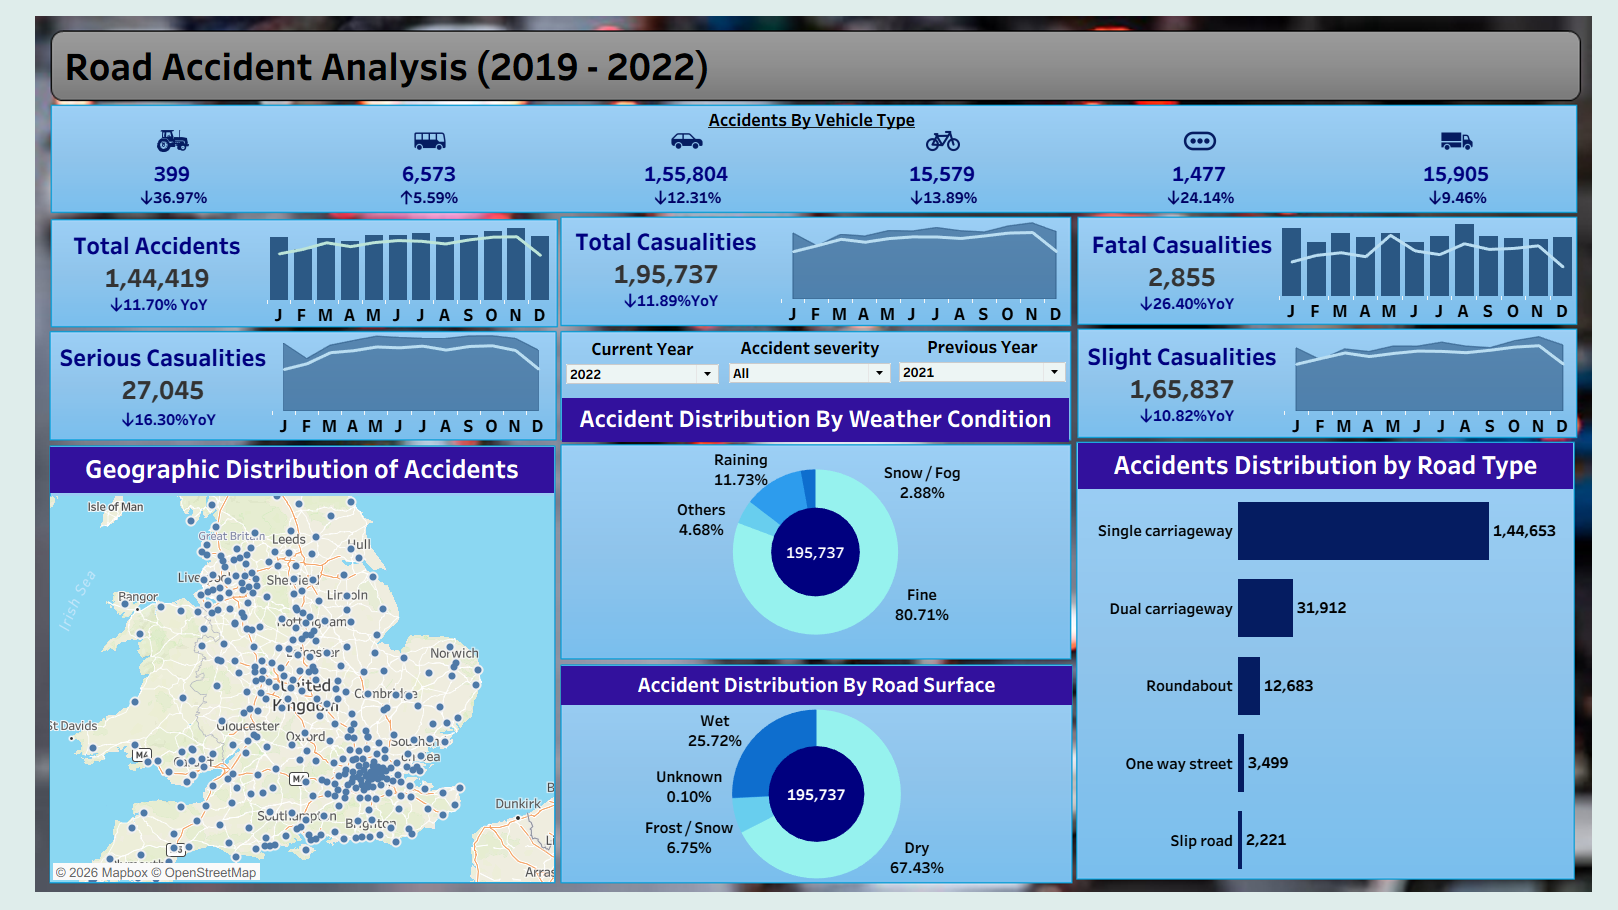

The page's visual inventory and layout, read from the dashboard file:
{"tool":"tableau","page":{"name":"Road Accident Analysis","canvas":[1600,900],"ordinal":1},"visuals":[{"type":"image","param":"C:/Users/TANVI YERAM/OneDrive/Documents/NYC Layout.png","box":[8,8,1584,884]},{"type":"text","box":[47,33,1504,56]},{"type":"text","box":[639,100,318,30]},{"type":"worksheet","title":"images","mark":"Shape","box":[31,119,1540,35]},{"type":"worksheet","title":"Vehicle type KPI","mark":"Automatic","box":[30,156,1540,48]},{"type":"worksheet","title":"Fatal Casualities","mark":"Automatic","box":[1070,211,196,113]},{"type":"worksheet","title":"Total Casualities","mark":"Automatic","box":[554,214,196,102]},{"type":"worksheet","title":"Total Casualities sparkline","mark":"Line","rows":["current year Causualities (copy)_0405448617402374","Calculation_0405448616124421"],"cols":["Accident Date"],"box":[767,215,287,107]},{"type":"worksheet","title":"Fatal sparkline","mark":"Line","rows":["CY Fatal Casualities (copy)_0405448620318730","Calculation_0405448619421705"],"cols":["Accident Date"],"box":[1265,216,296,102]},{"type":"worksheet","title":"Total Accidents","mark":"Automatic","box":[53,218,180,102]},{"type":"worksheet","title":"Accidents Sparkline","mark":"Line","rows":["Current Year Accidents (copy)_0405448610525187","Calculation_0405448608624642"],"cols":["Accident Date"],"box":[253,220,285,102]},{"type":"worksheet","title":"Slight Casualities","mark":"Automatic","box":[1069,323,197,113]},{"type":"worksheet","title":"Serious Sparkline","mark":"Line","rows":["PY Fatal Casualities (copy)_0405448626880526","CY Fatal Casualities (copy)_0405448626216972"],"cols":["Accident Date"],"box":[258,328,278,106]},{"type":"worksheet","title":"Slight Sparkline","mark":"Line","rows":["PY Serious Casualities  (copy)_0405448628150289","CY Serious Casualities  (copy)_0405448627900432"],"cols":["Accident Date"],"box":[1270,329,291,105]},{"type":"parameter","param":"[Parameters].[Current Year (copy)_0405448608325633]","box":[882,331,173,62]},{"type":"worksheet","title":"Serious Casualities","mark":"Automatic","box":[38,332,222,102]},{"type":"parameter","param":"[Parameters].[Parameter 2]","box":[712,332,168,62]},{"type":"parameter","param":"[Parameters].[Parameter 1]","box":[549,333,159,61]},{"type":"worksheet","title":"Weather Condition","mark":"Pie","rows":["Calculation_1157240269987841","Calculation_1157240270020611"],"box":[548,394,507,261]},{"type":"worksheet","title":"Road Type","mark":"Automatic","rows":["Road_Type"],"cols":["Calculation_0405448616124421"],"box":[1064,439,495,436]},{"type":"worksheet","title":"Map Chart","mark":"Automatic","rows":["Latitude"],"cols":["Longitude"],"box":[36,443,504,435]},{"type":"worksheet","title":"Road Surface","mark":"Pie","rows":["Calculation_1157240269987841","Calculation_1157240270020611"],"box":[547,662,511,214]}]}

Visuals, with their boxes in screenshot pixels (x1, y1, x2, y2), scaled from the page's 1600x900 canvas onto the 1618x910 screenshot:
image: rect(8, 8, 1610, 902)
text: rect(48, 33, 1568, 90)
text: rect(646, 101, 968, 131)
"images" worksheet (Shape marks): rect(31, 120, 1589, 156)
"Vehicle type KPI" worksheet: rect(30, 158, 1588, 206)
"Fatal Casualities" worksheet: rect(1082, 213, 1280, 328)
"Total Casualities" worksheet: rect(560, 216, 758, 320)
"Total Casualities sparkline" worksheet (Line marks): rect(776, 217, 1066, 326)
"Fatal sparkline" worksheet (Line marks): rect(1279, 218, 1579, 322)
"Total Accidents" worksheet: rect(54, 220, 236, 324)
"Accidents Sparkline" worksheet (Line marks): rect(256, 222, 544, 326)
"Slight Casualities" worksheet: rect(1081, 327, 1280, 441)
"Serious Sparkline" worksheet (Line marks): rect(261, 332, 542, 439)
"Slight Sparkline" worksheet (Line marks): rect(1284, 333, 1579, 439)
parameter: rect(892, 335, 1067, 397)
"Serious Casualities" worksheet: rect(38, 336, 263, 439)
parameter: rect(720, 336, 890, 398)
parameter: rect(555, 337, 716, 398)
"Weather Condition" worksheet (Pie marks): rect(554, 398, 1067, 662)
"Road Type" worksheet: rect(1076, 444, 1577, 885)
"Map Chart" worksheet: rect(36, 448, 546, 888)
"Road Surface" worksheet (Pie marks): rect(553, 669, 1070, 886)
